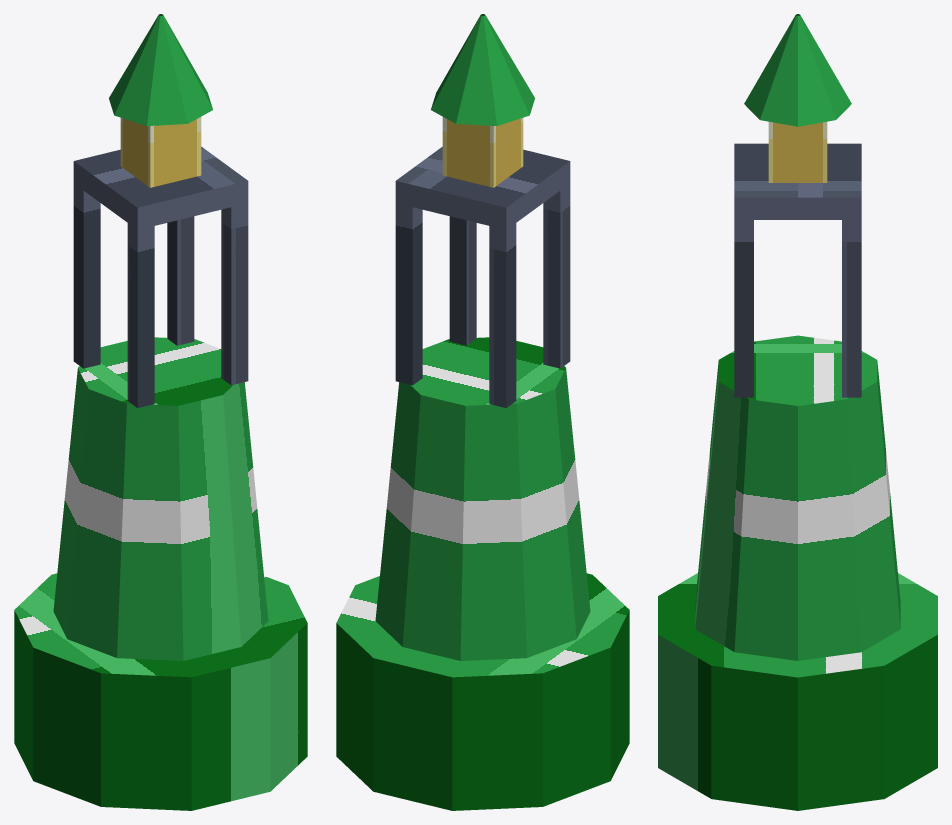
Rendered from nav_buoy_green.obj.
3 views of the same model, side by side, from view 1: azimuth 30°, elevation 25°; view 2: azimuth 150°, elevation 25°; view 3: azimuth 270°, elevation 25° (orthographic).
Size of the model in its own units: 12 by 33 by 11.41.
